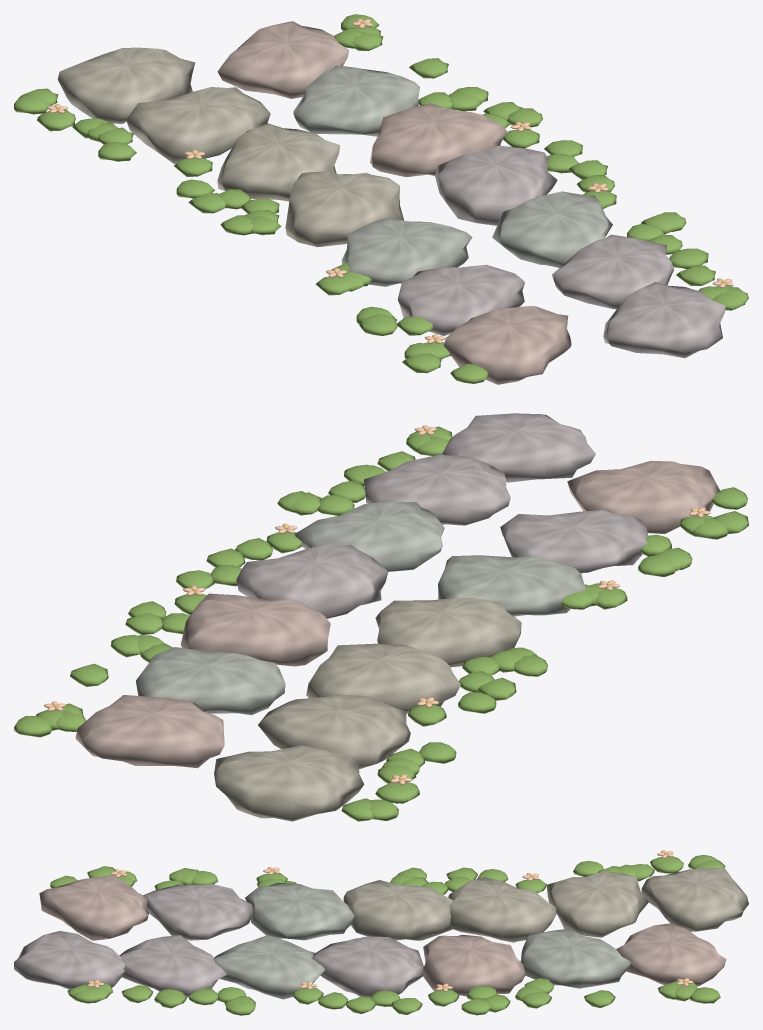
The model's file is path.glb.
3 views of the same model, one above another, from view 1: azimuth 30°, elevation 25°; view 2: azimuth 150°, elevation 25°; view 3: azimuth 270°, elevation 25° (orthographic). The views are drawn at different scales.
Visible parts, largest first — view 1: path; view 2: path; view 3: path.
Boxes of the visible parts, x1,y1,x2,y2 form: path: [14, 14, 748, 384]; path: [14, 413, 748, 821]; path: [14, 850, 748, 1015].
Size of the model in its own units: 1.6 by 0.1701 by 3.14.
Materials: 7 (4 with a texture image).
